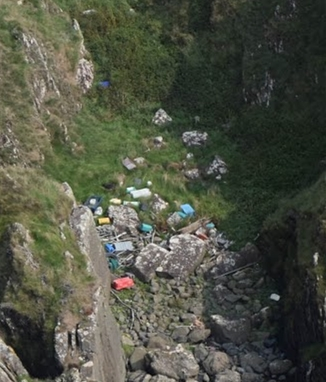together_barrel: (76, 175, 218, 293)
white_in_green: (256, 277, 298, 315), (85, 65, 126, 101)
